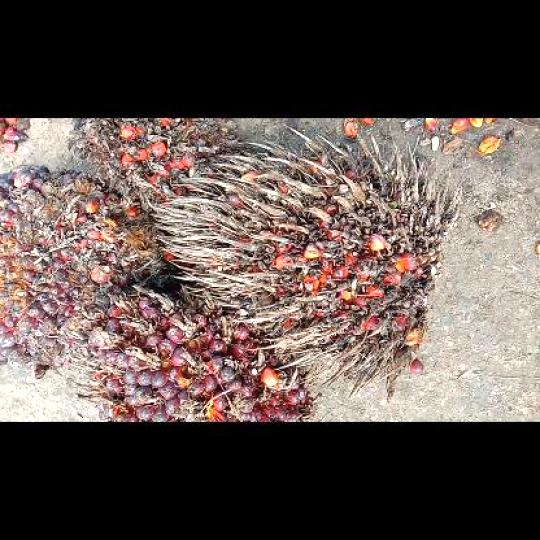masak: (0, 166, 161, 377), (70, 285, 312, 421)
terlalu masak: (152, 125, 457, 397), (68, 118, 237, 212)
